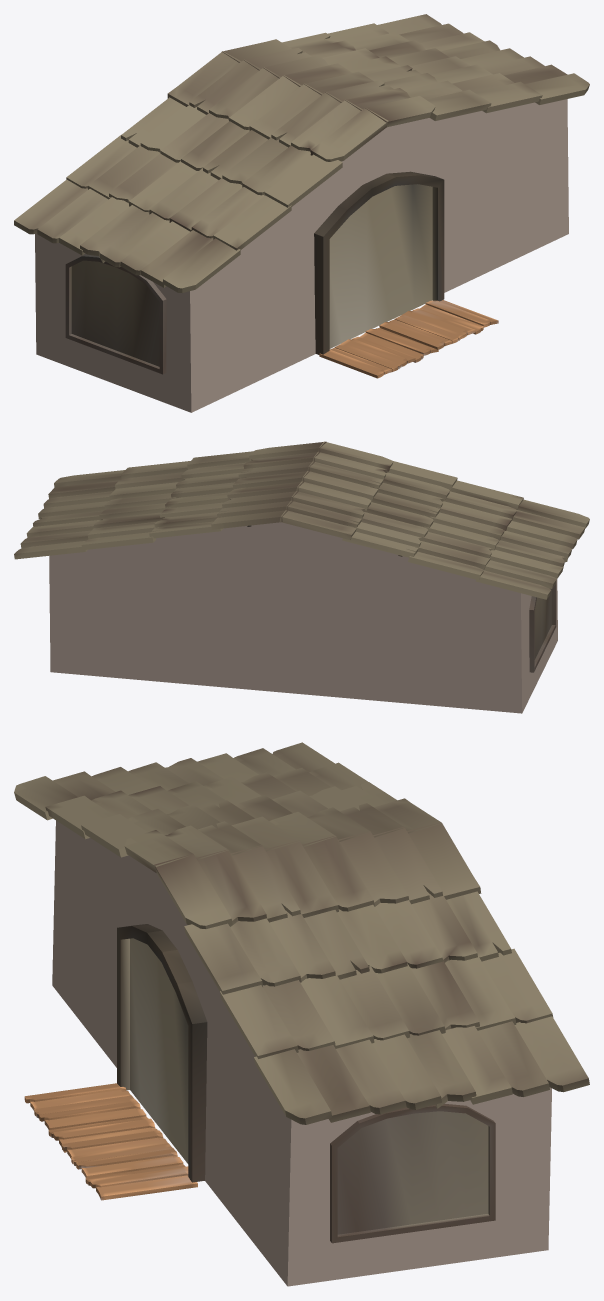
The model's file is House03.fbx.
3 renders of one model, top to bottom at view 1: azimuth 30°, elevation 25°; view 2: azimuth 150°, elevation 25°; view 3: azimuth 270°, elevation 25°, orthographic. The views are drawn at different scales.
Visible parts, largest first — view 1: House03_LOD0; view 2: House03_LOD0; view 3: House03_LOD0.
Boxes of the visible parts, x1,y1,x2,y2 form: House03_LOD0: (14,14,589,412); House03_LOD0: (14,441,589,713); House03_LOD0: (14,742,589,1286).
Size of what is drawn, in the model's own units: 473 by 168 by 310.
